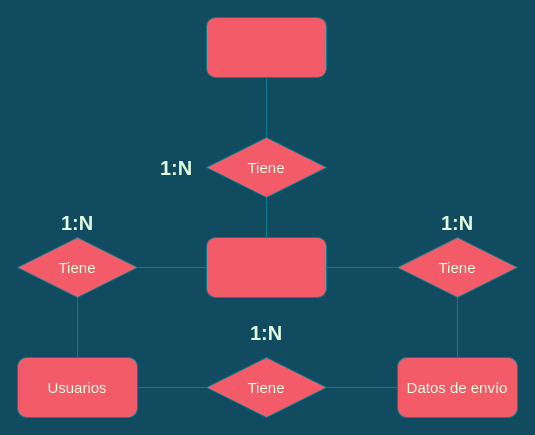
Image size: 535x435. Some labels were removed from this diagram. Here are the shapes that lost their labels. From the top down, the centre of each, then its label:
At pixel 266 47: "Prenda".
At pixel 266 267: "Compra".
